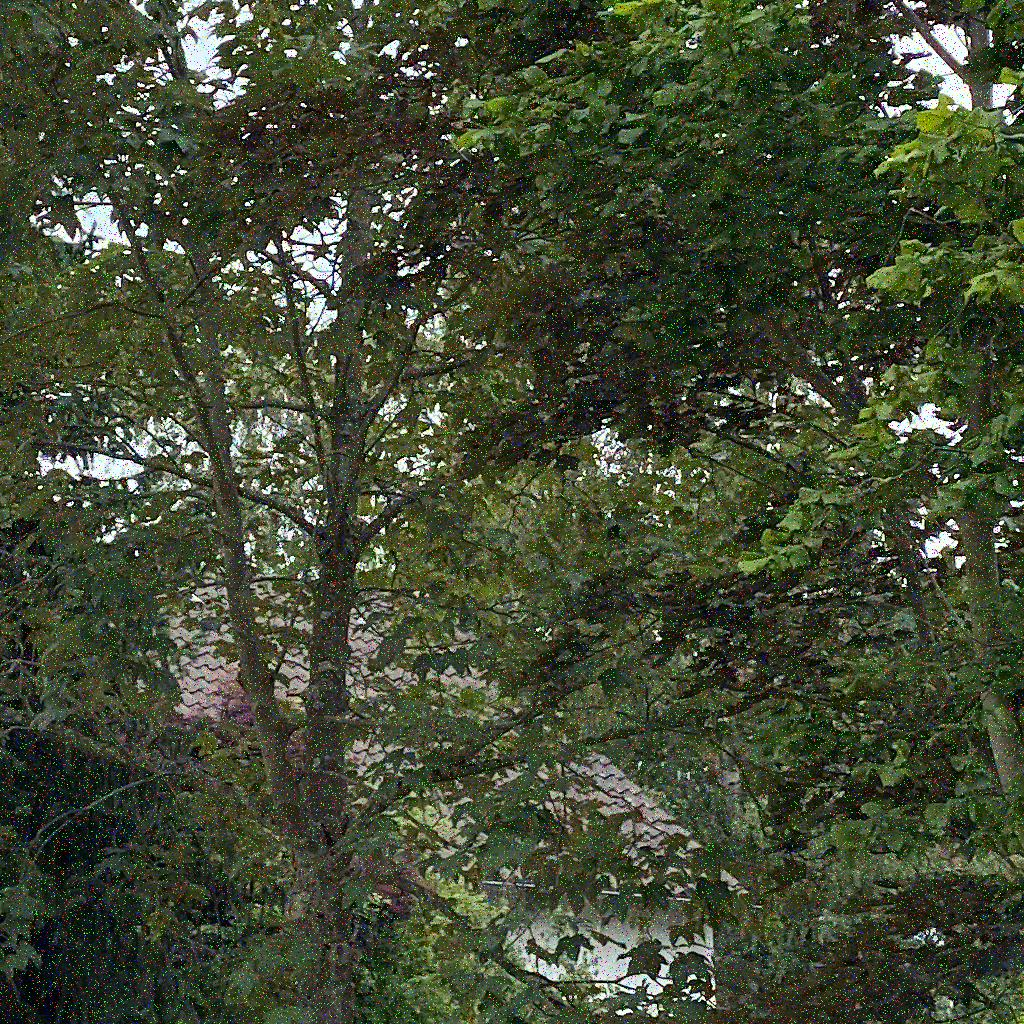tree: (1, 1, 716, 1023), (448, 1, 1023, 1023), (456, 1, 1024, 858)
